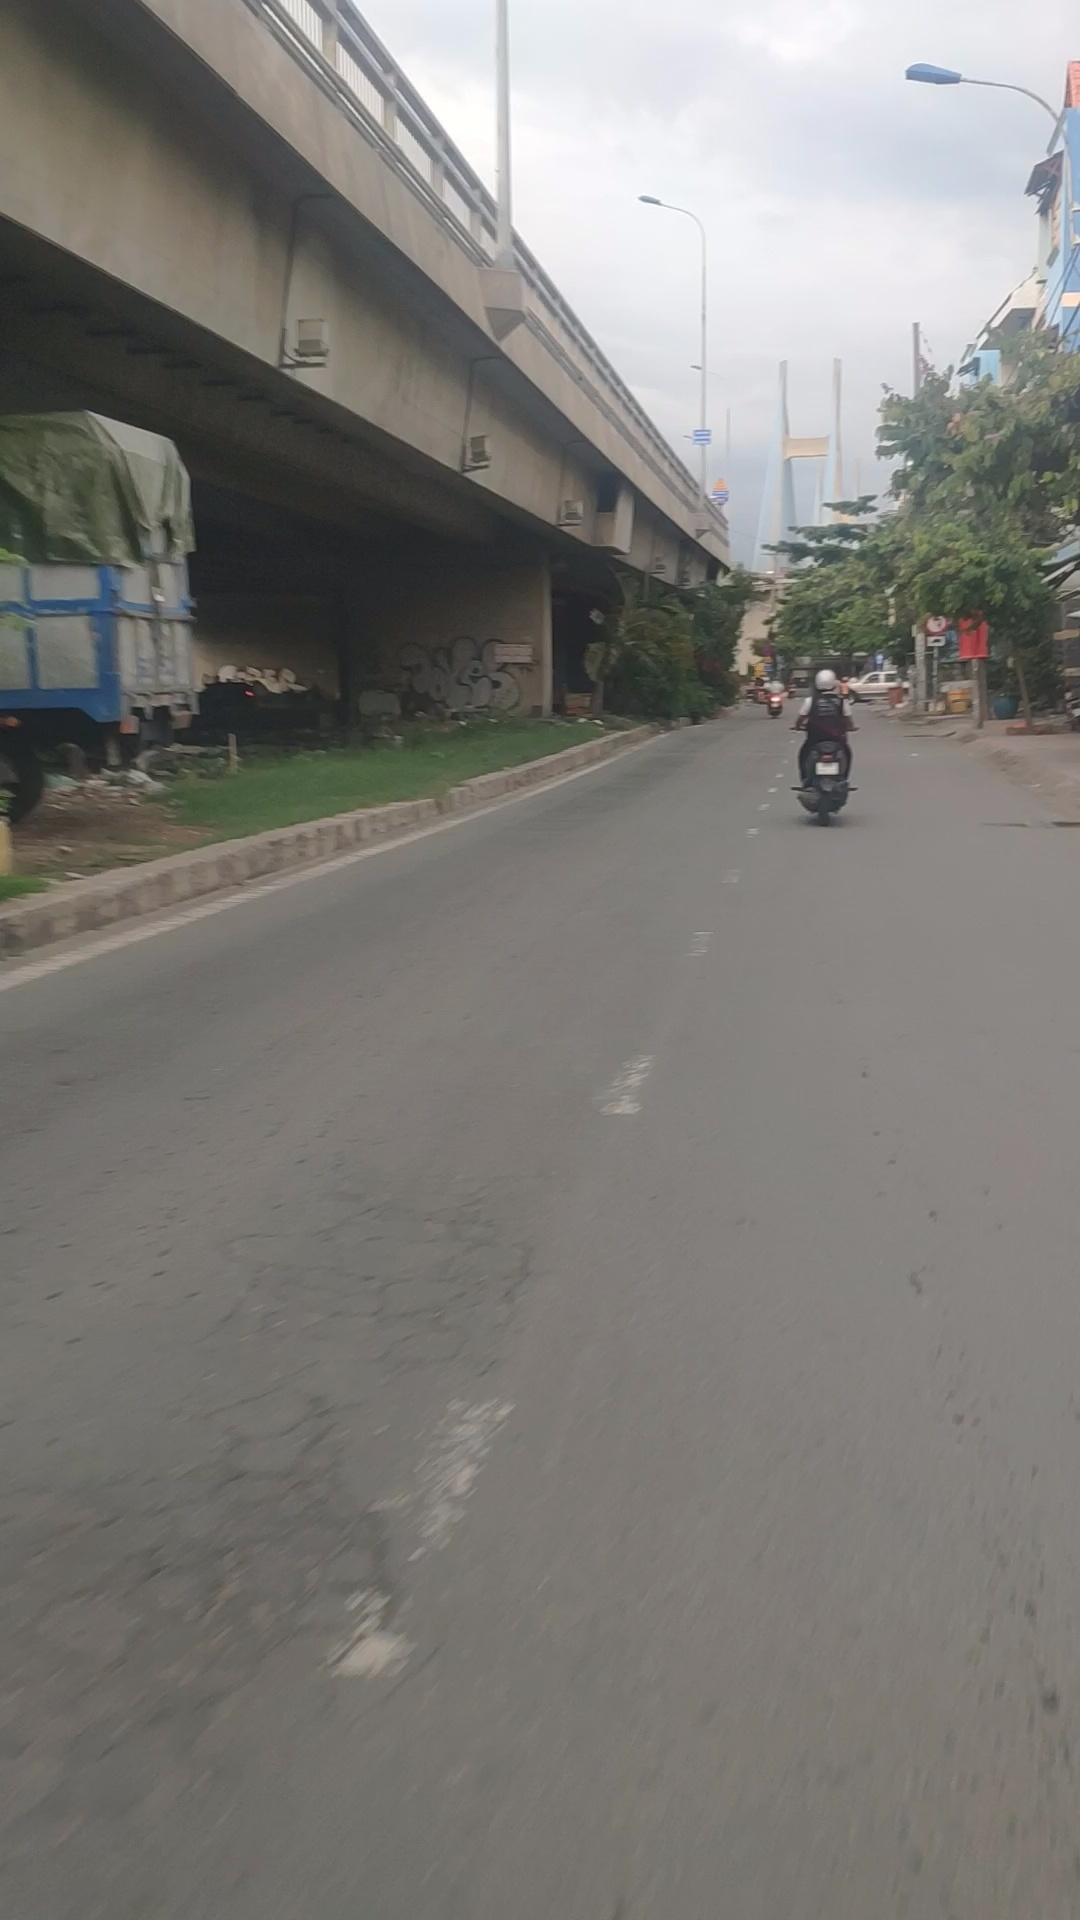hole: (1, 1389, 422, 1821)
